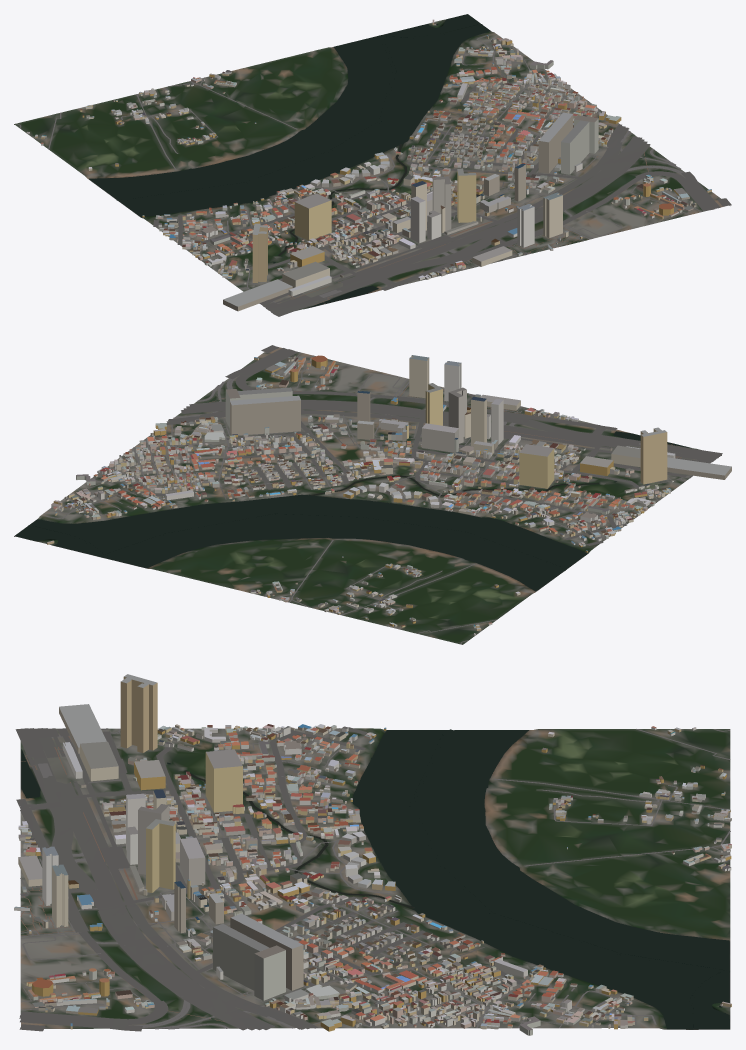
3 views of the same model, one above another, from view 1: azimuth 30°, elevation 25°; view 2: azimuth 150°, elevation 25°; view 3: azimuth 270°, elevation 25° (orthographic). The views are drawn at different scales.
Visible parts, largest first — view 1: ground, buildings, water, roads; view 2: ground, buildings, water, roads; view 3: ground, buildings, water, roads.
Boxes of the visible parts, <box> form: ground: <box>14,14,730,310</box>; buildings: <box>26,19,711,311</box>; water: <box>89,14,490,307</box>; roads: <box>15,34,731,316</box>; ground: <box>14,347,721,644</box>; buildings: <box>47,355,731,635</box>; water: <box>15,431,690,591</box>; roads: <box>46,345,722,644</box>; ground: <box>20,728,730,1029</box>; buildings: <box>14,674,731,1035</box>; water: <box>21,729,730,1029</box>; roads: <box>15,727,730,1031</box>.
Bounding box in the file's own units: 1521 × 148 × 1417.
